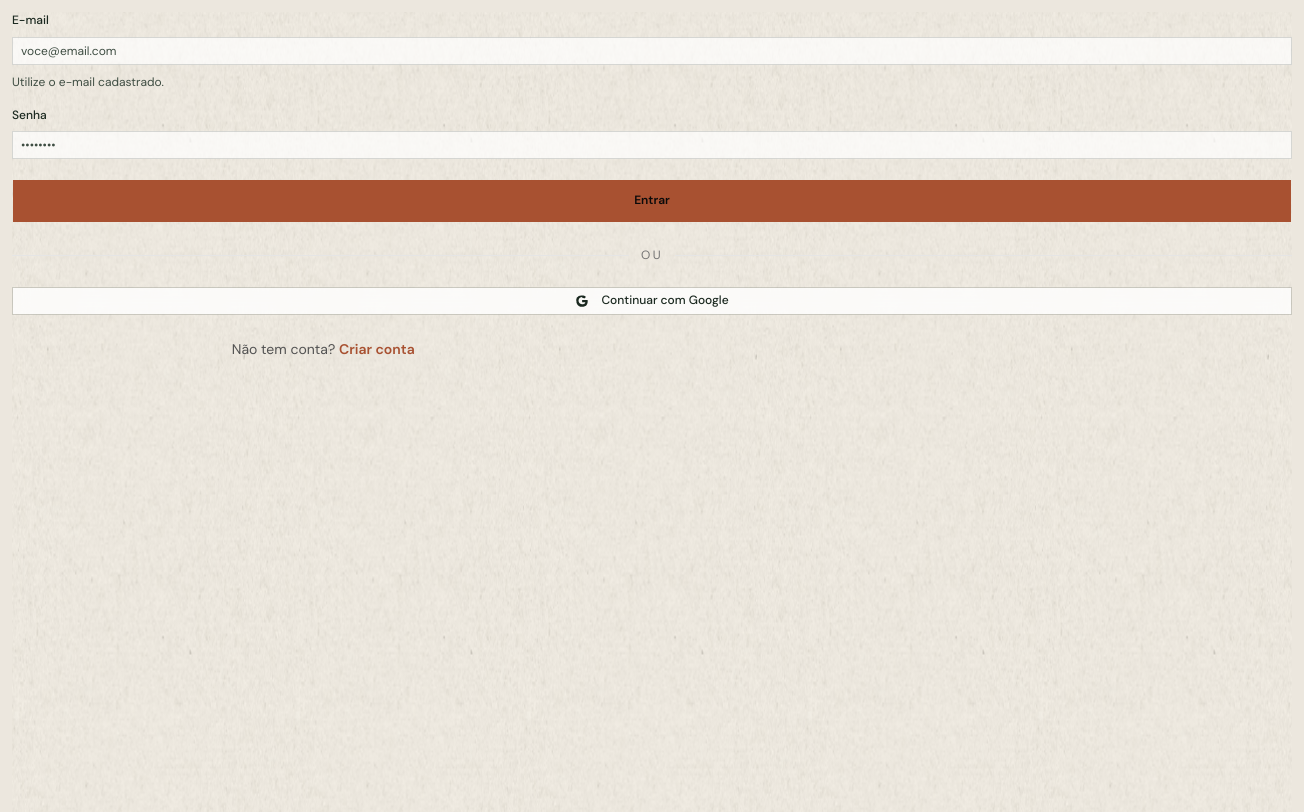
Scenario: SignInForm › valida senha com menos de 8 caracteres
Type "teste@email.com" into the field with placeholder "voce@email.com" at (652,50), box x1=12 y1=36 x2=1292 y2=64
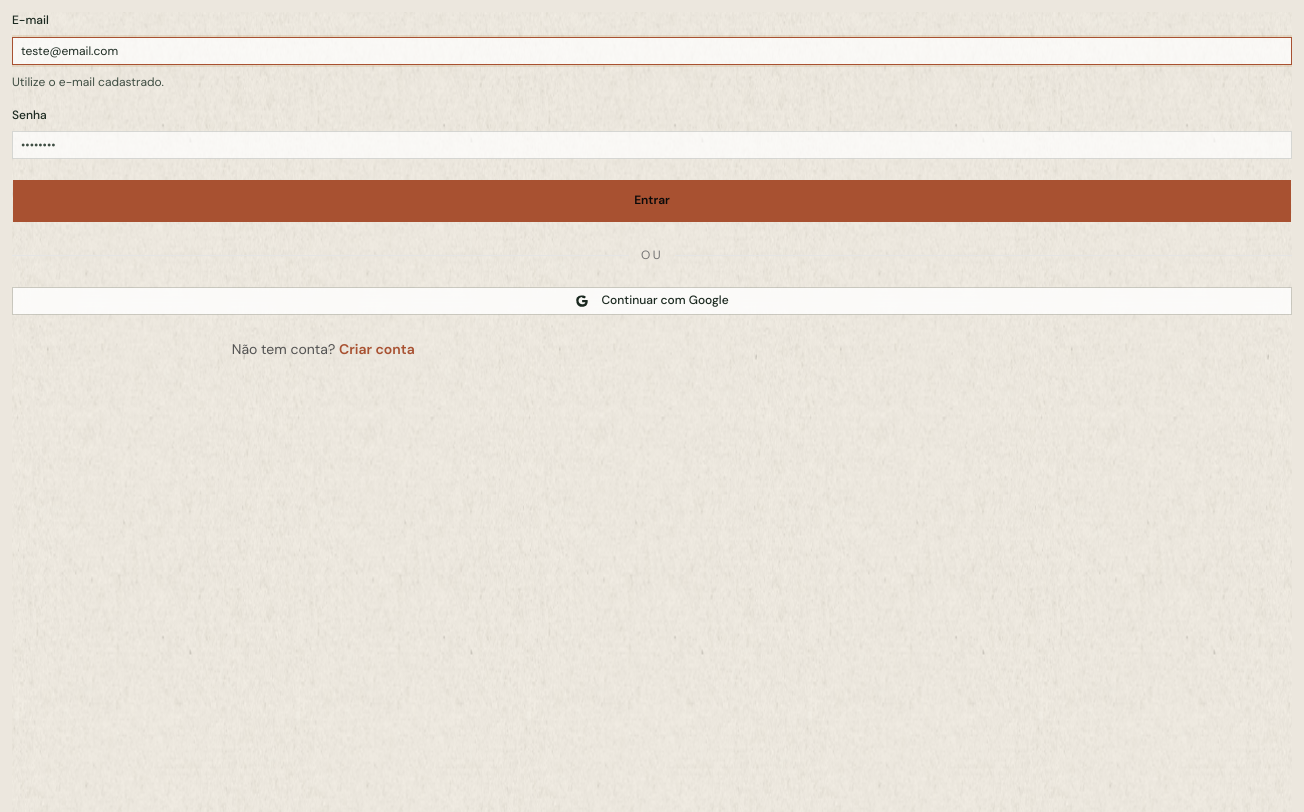
Type "1234567" into the password field with placeholder "••••••••" at (652,145), box x1=12 y1=131 x2=1292 y2=159
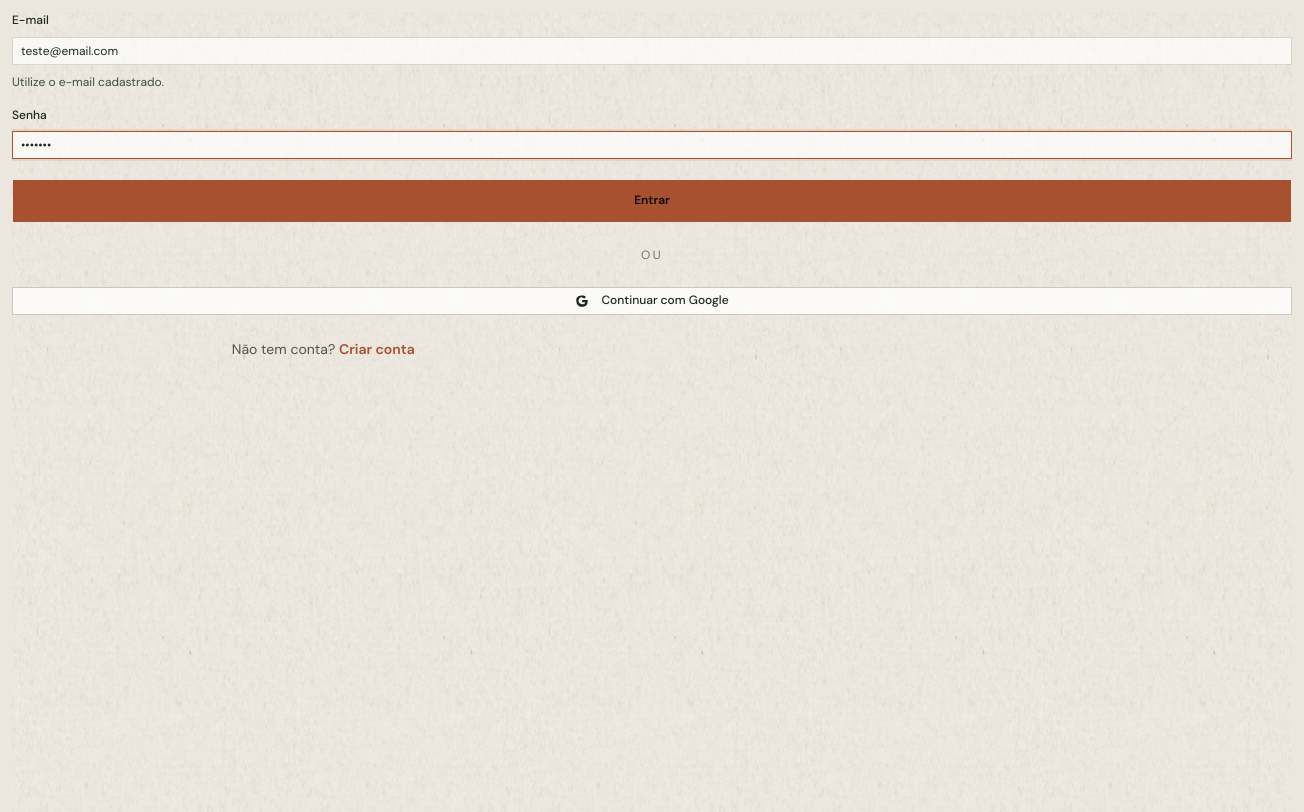
Click the button "Entrar" at (652,201), box x1=12 y1=179 x2=1292 y2=223
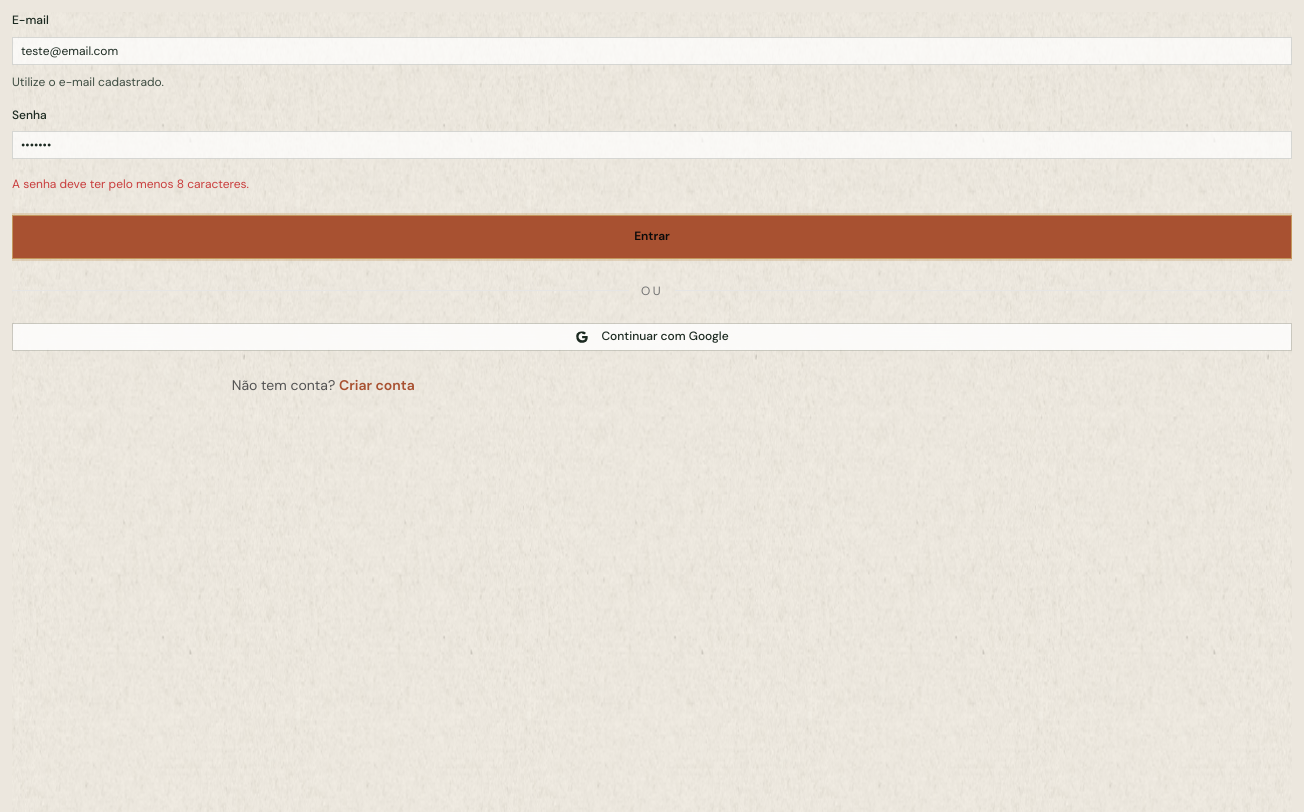
Result: the text "A senha deve ter pelo menos 8 caracteres." is shown at x1=12 y1=176 x2=249 y2=192
